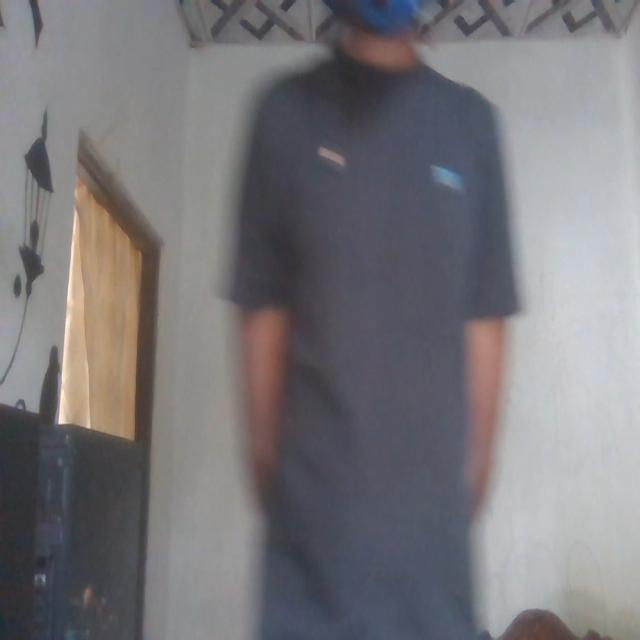Helmet_Wearer: (245, 0, 513, 640)
